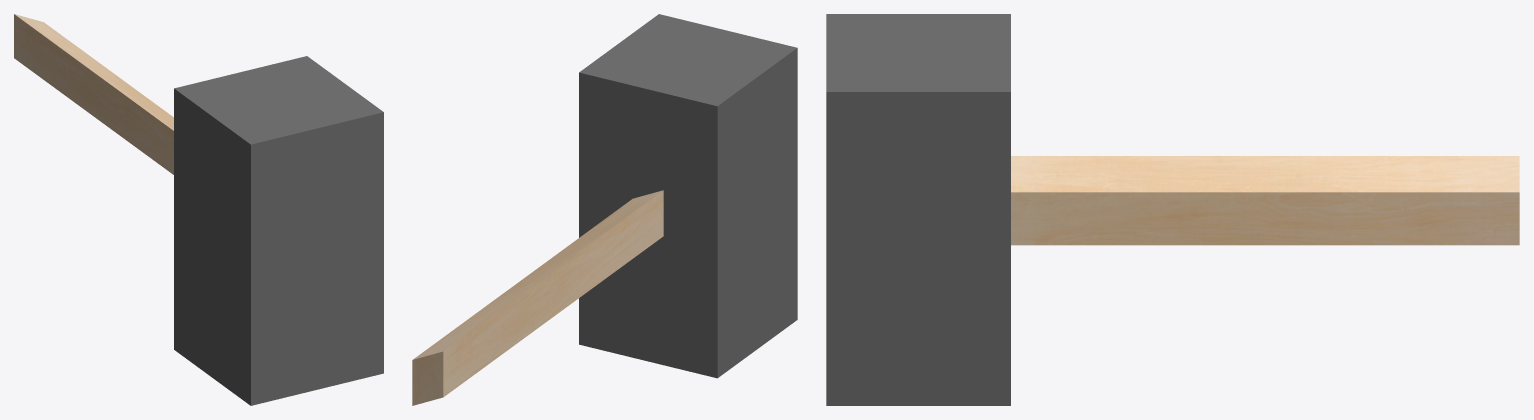
The model's file is hamer002.fbx.
3 renders of one model, left to right at view 1: azimuth 30°, elevation 25°; view 2: azimuth 150°, elevation 25°; view 3: azimuth 270°, elevation 25°, orthographic. The views are drawn at different scales.
Visible parts, largest first — view 1: 立方体; view 2: 立方体; view 3: 立方体.
Part boxes in pixels (<box>): 立方体: <box>14,14,383,405</box>; 立方体: <box>412,14,797,405</box>; 立方体: <box>826,14,1519,405</box>.
Size of the model in its own units: 200 by 375 by 751.
Materials: 2 (1 with a texture image).
